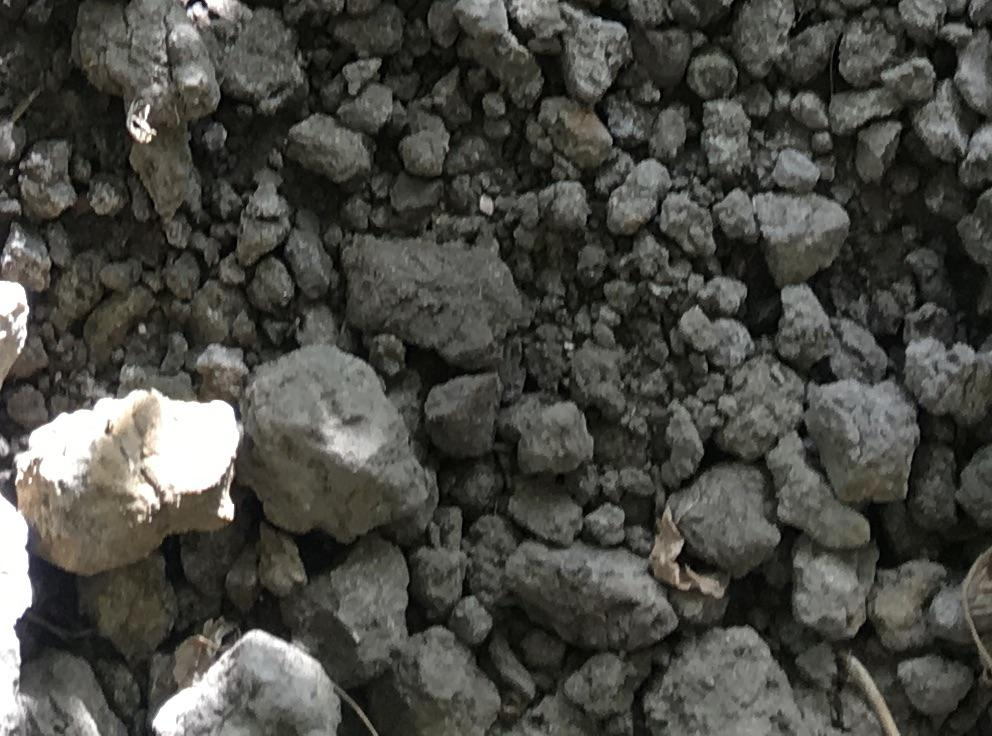block: (9, 388, 239, 576), (242, 345, 430, 544), (342, 229, 517, 365), (148, 622, 341, 736), (509, 538, 677, 656), (64, 2, 225, 125), (801, 378, 921, 508)
